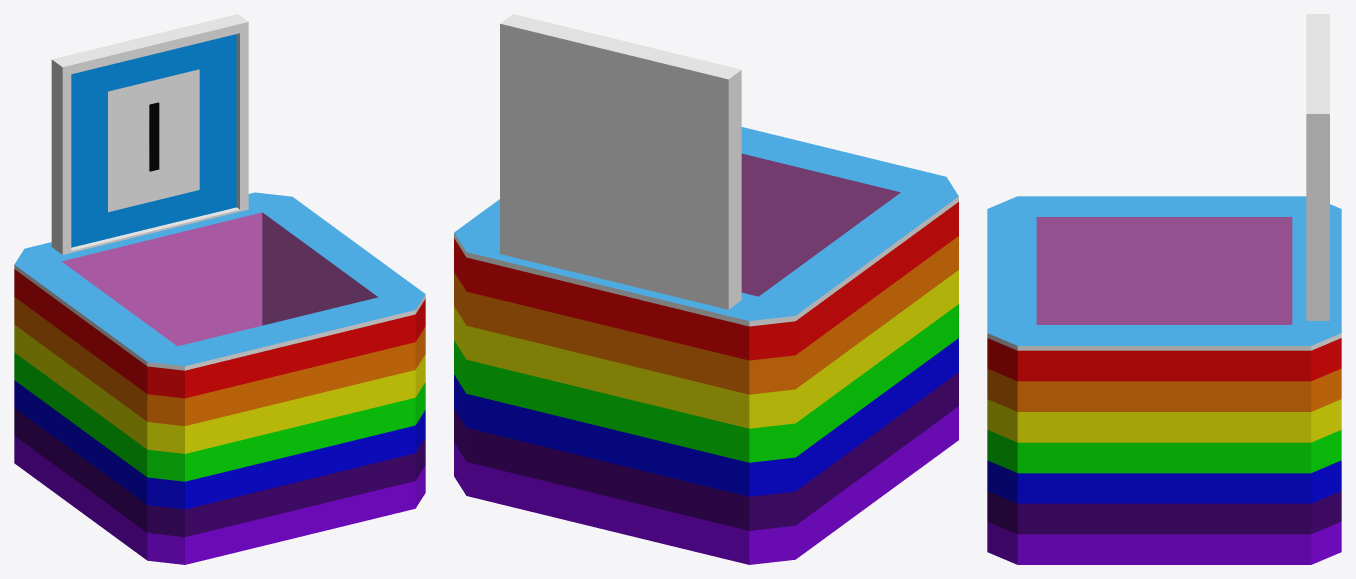
3 renders of one model, left to right at view 1: azimuth 30°, elevation 25°; view 2: azimuth 150°, elevation 25°; view 3: azimuth 270°, elevation 25°, orthographic. The views are drawn at different scales.
Visible parts, largest first — view 1: Cube.001, Text; view 2: Cube.001; view 3: Cube.001.
Part boxes in pixels (x1,y1,x2,y2): Cube.001: [14, 14, 425, 564]; Text: [149, 102, 159, 171]; Cube.001: [454, 14, 958, 564]; Cube.001: [987, 14, 1341, 564].
Bounding box in the file's own units: 383 × 508 × 383.
